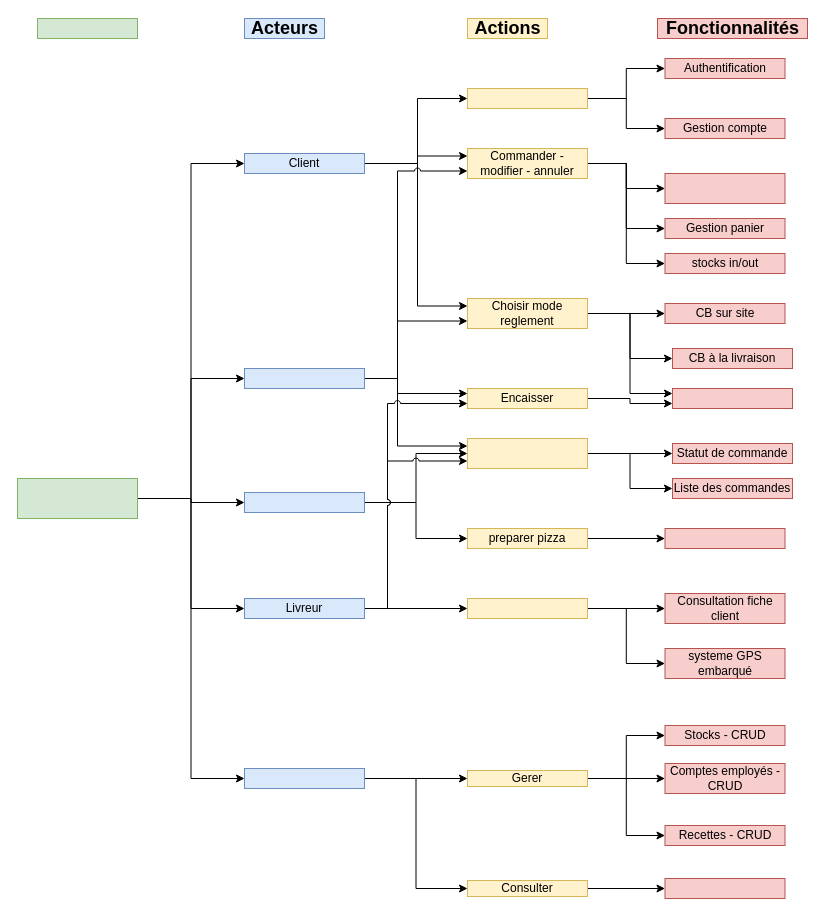
Some shapes in this 825 by 916 pixel diagram are drawn without their labels. Each missing label, with the centre of its shape:
Consultation cartes pizza: pixel 724 188
Consultation recettes: pixel 724 538
Gerer commande: pixel 527 453
Gestion site OC Pizza: pixel 77 498
Livrer: pixel 527 608
OBJECTIF: pixel 87 28
Pizzaiolo: pixel 304 502
reglement comptoir: pixel 732 398
S'authentifier: pixel 527 98
Staff: pixel 304 778
Statistiques: pixel 724 888
Vendeur Comptoir: pixel 304 378
